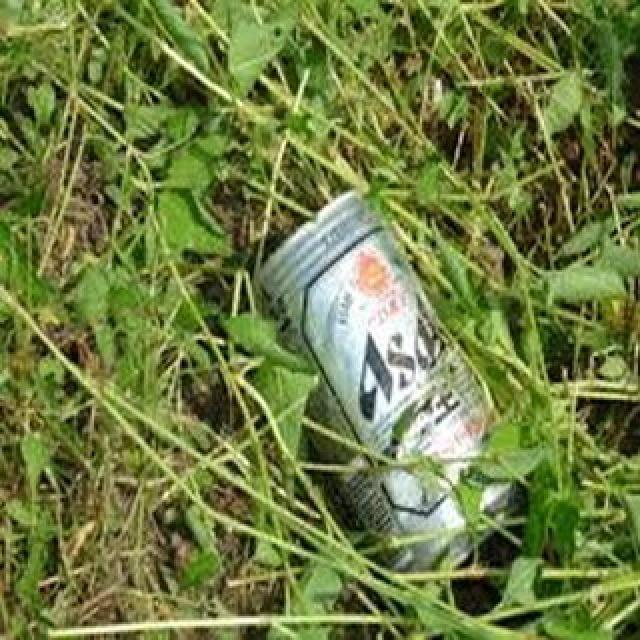Anorganik: (259, 188, 528, 592)
